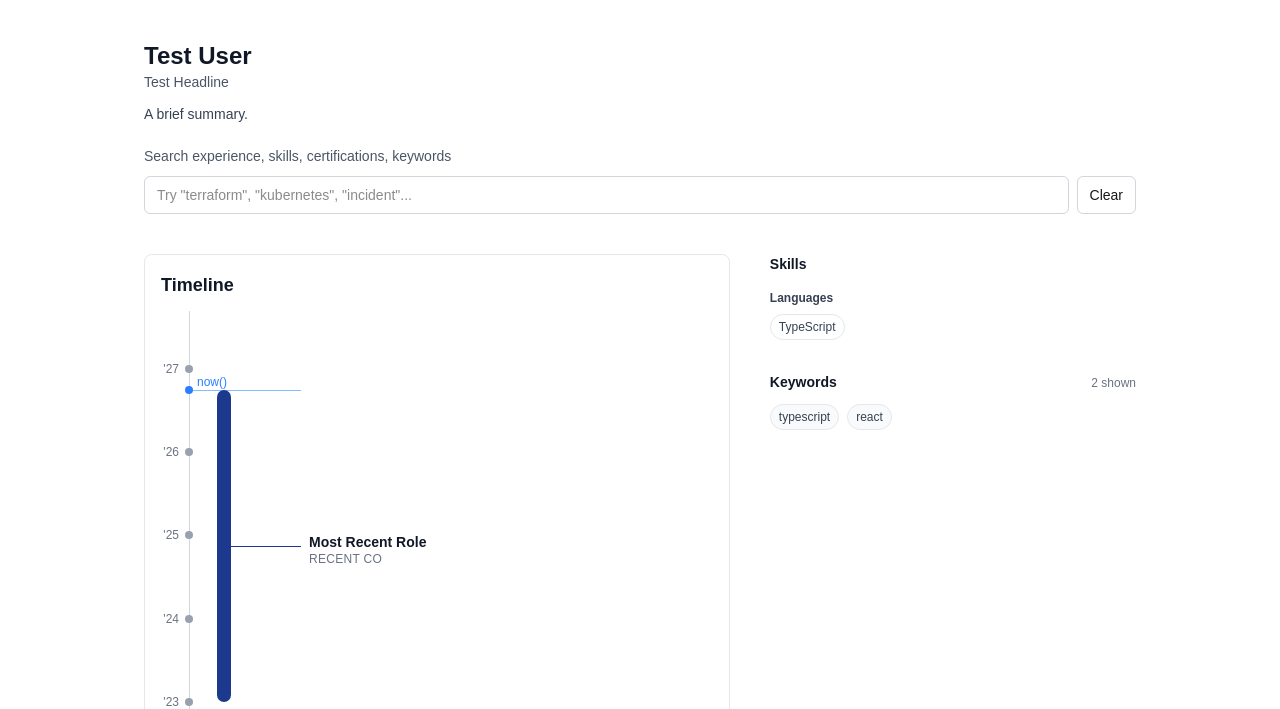
it: Home page › typing in the search bar filters the experience list
The width and height of the screenshot is (1280, 709).
Type "React" into the field with placeholder "Try \"terraform\", \"kubernetes\", \"incident\"...".
click(606, 195); type("React")  # box 144,176 -> 1068,214
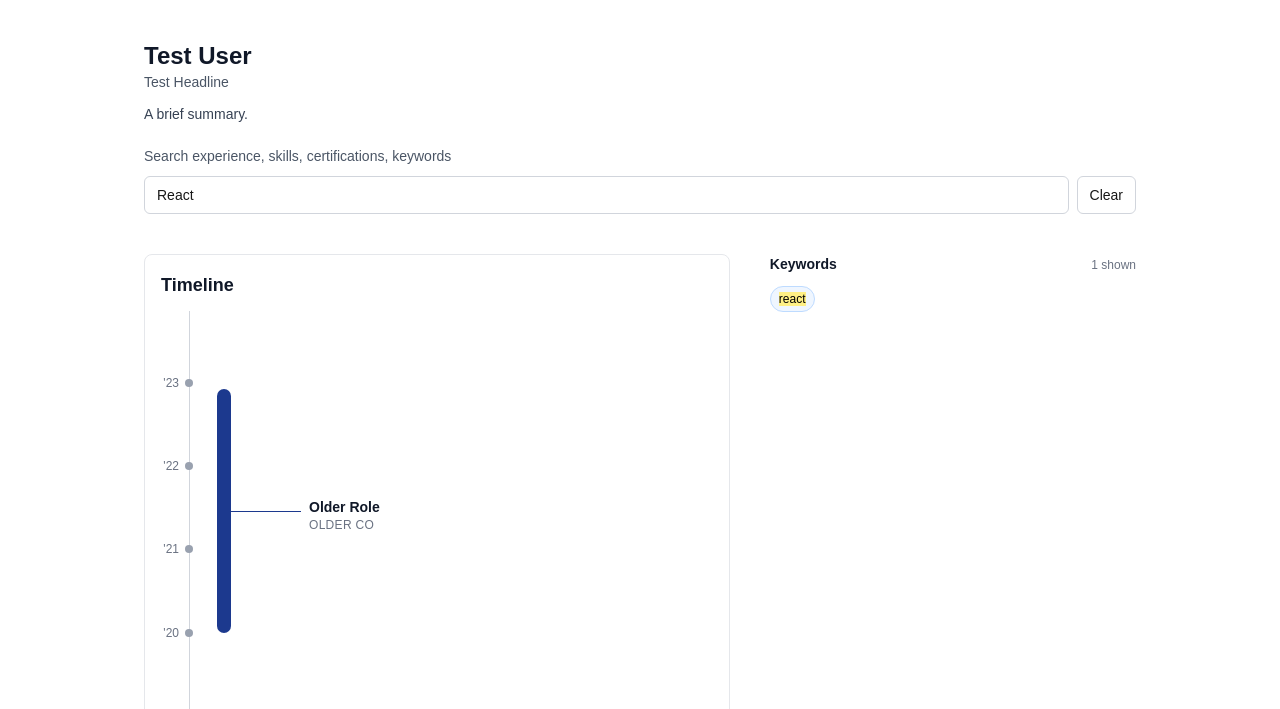
Expected: the text "Older Role" is shown, 309,499 -> 380,515
Expected: the text "Most Recent Role" is gone
